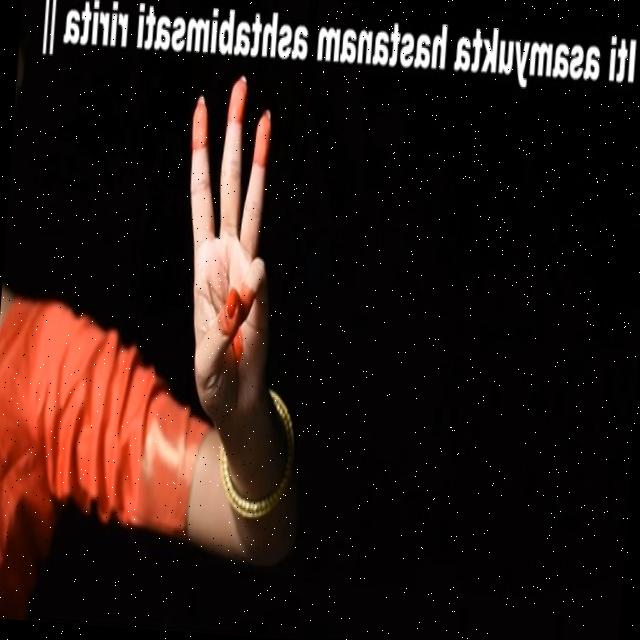Trishula: (162, 62, 291, 436)
bangle: (214, 385, 312, 535)
text: (35, 0, 640, 104)
